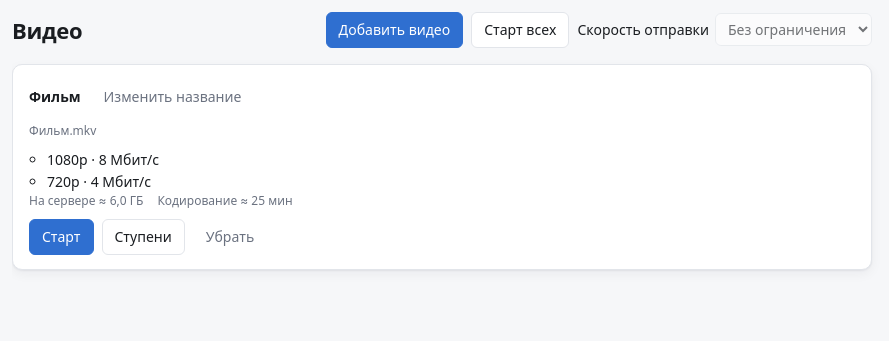
Test: the plan before Start › shows a start refused for one video on that video's card
The width and height of the screenshot is (889, 341).
Click the button "Старт". click: [61, 237]
box: [29,219,94,255]
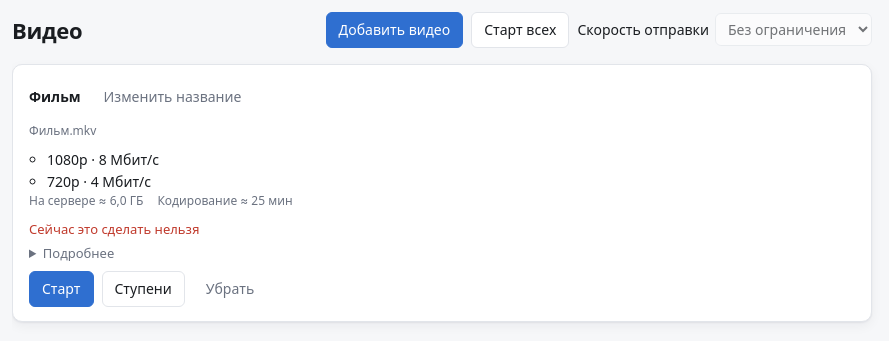
Expected: the text "Сейчас это сделать нельзя" is shown, [29,220,200,238]
